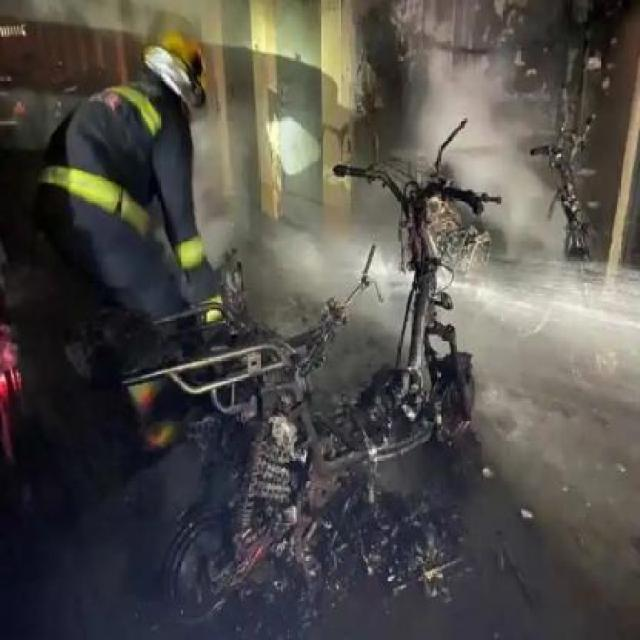Smoke: (422, 48, 564, 247)
